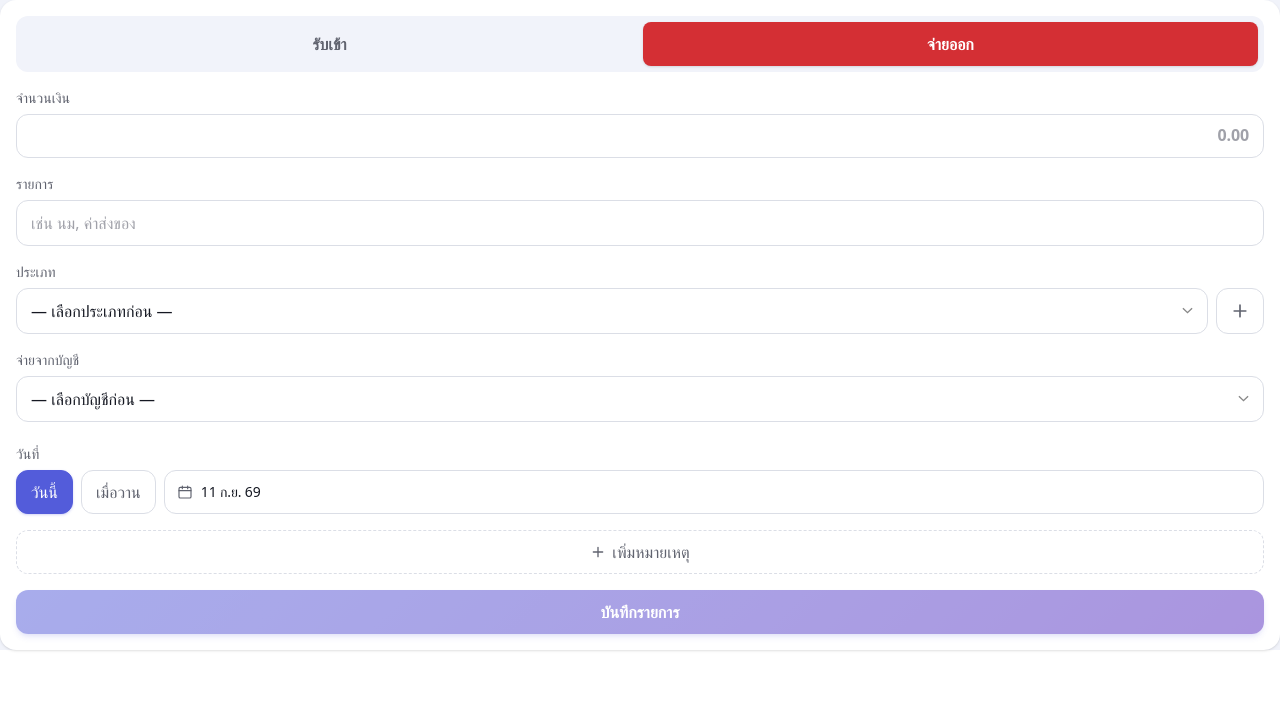
Scenario: ปุ่มบันทึก › กดไม่ได้จนกว่าจะครบ จำนวน ชื่อ ประเภท และบัญชี
In the field labelled "จำนวนเงิน": (640, 136) [16,114,1264,158], type "120"
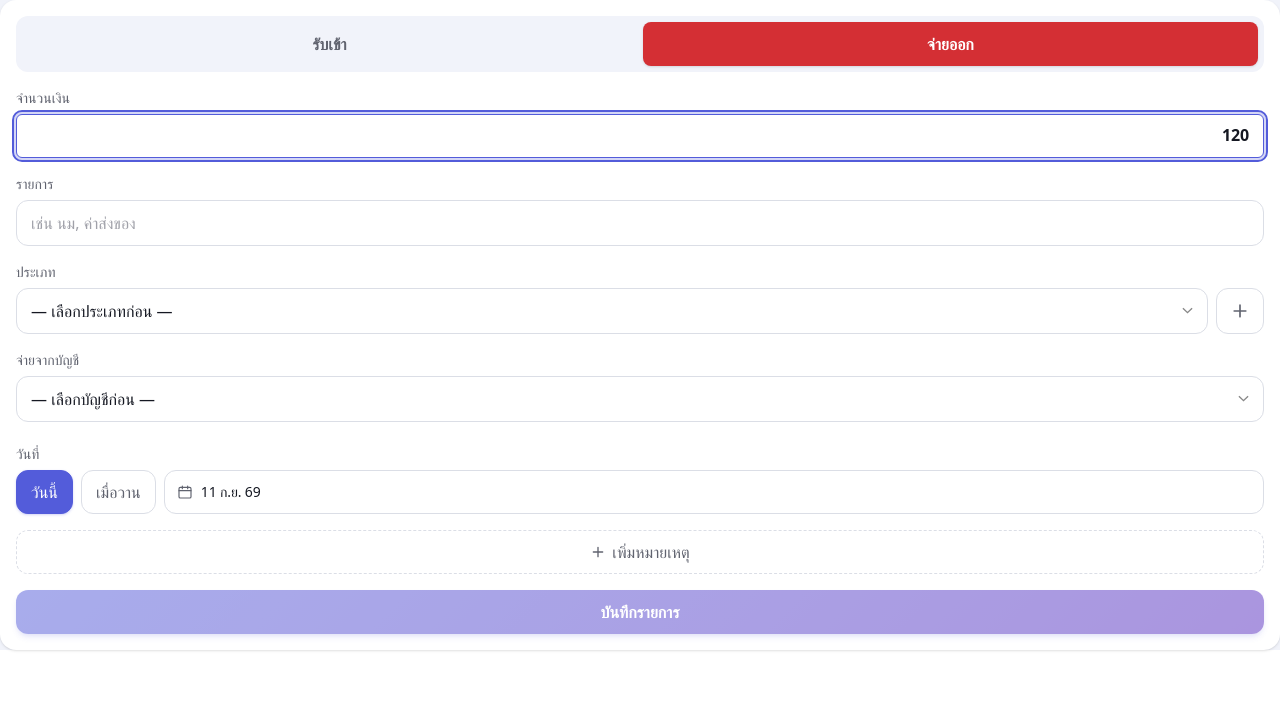
In the field labelled "รายการ": (640, 223) [16,200,1264,246], type "ขายของ"
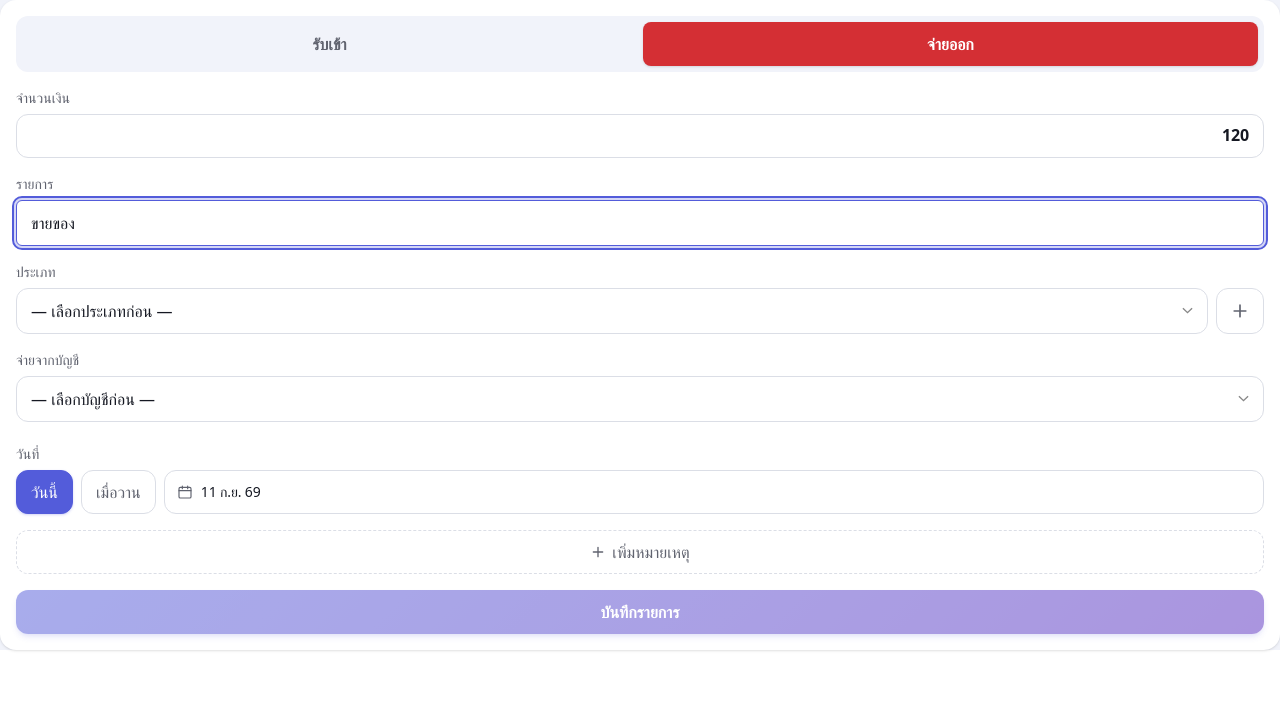
Expected: the button "บันทึกรายการ" is disabled, [16,590,1264,634]
Select "ซื้อของเข้าร้าน" in the dropdown labelled "ประเภท": (612, 311) [16,288,1208,334]
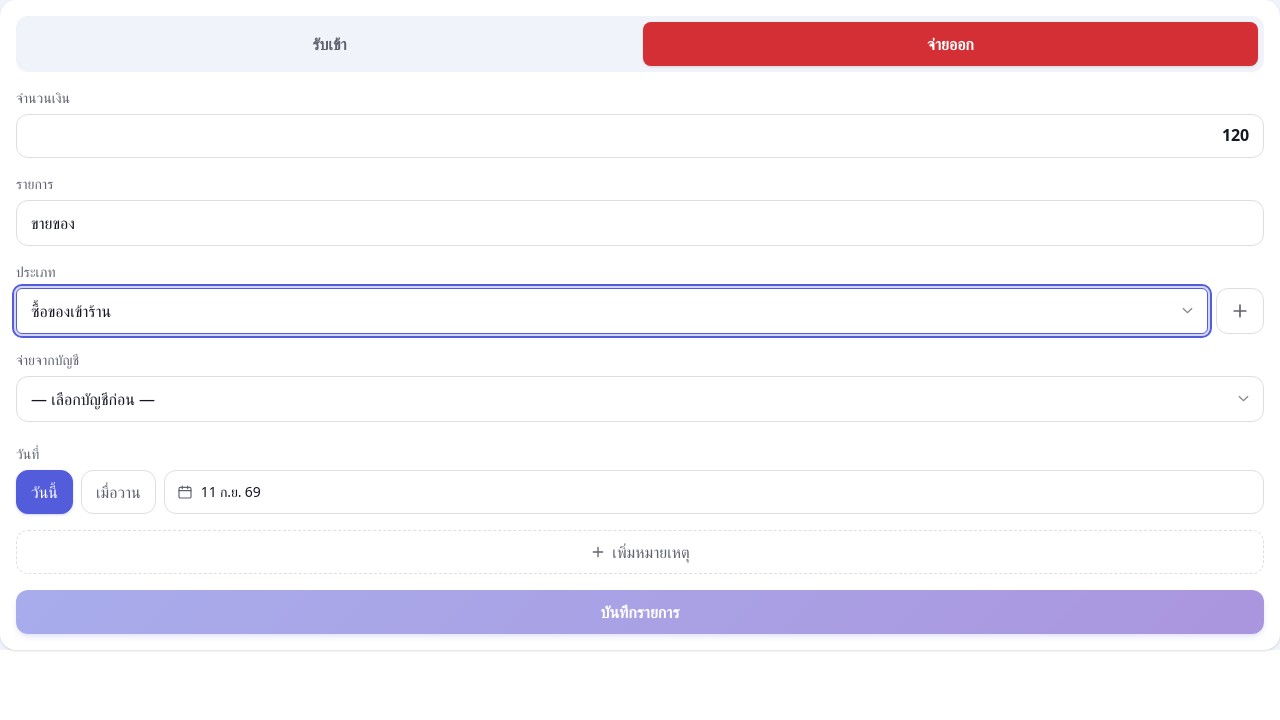
Expected: the button "บันทึกรายการ" is disabled, [16,590,1264,634]
Select "เงินสด · 1,500" in the dropdown labelled "จ่ายจากบัญชี": (640, 399) [16,376,1264,422]
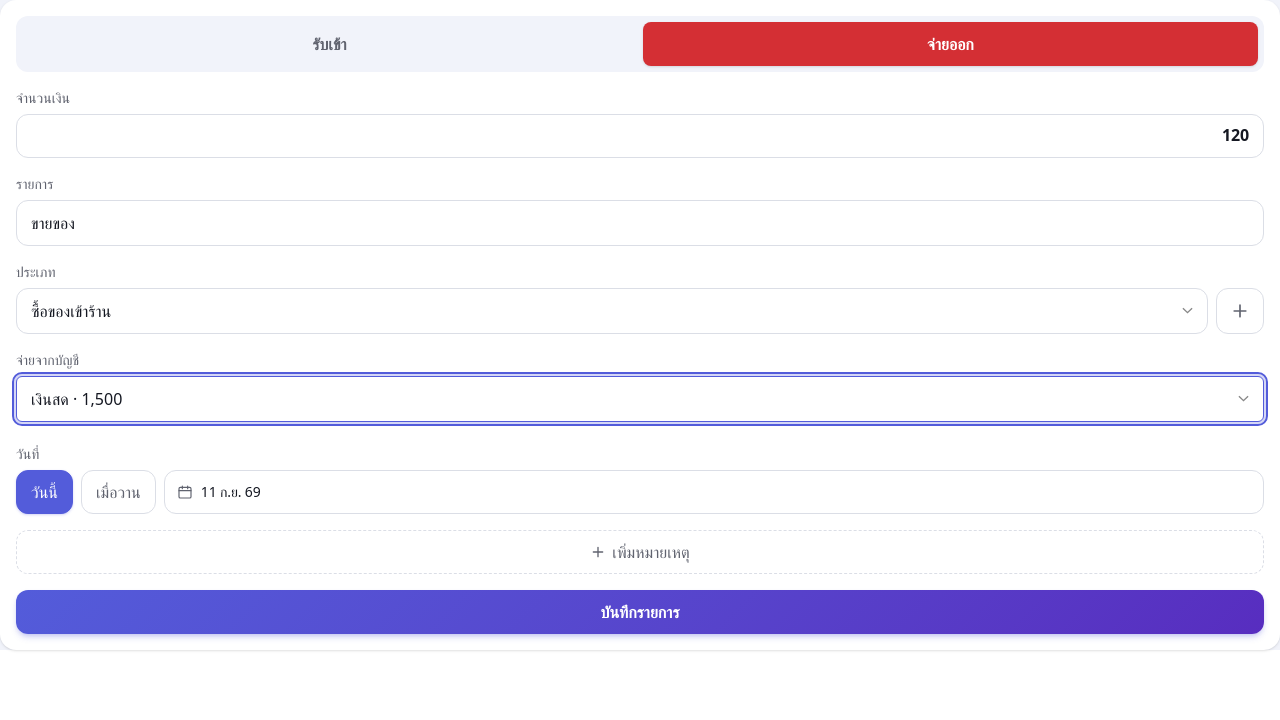
Now the button "บันทึกรายการ" is enabled, box [16,590,1264,634]
